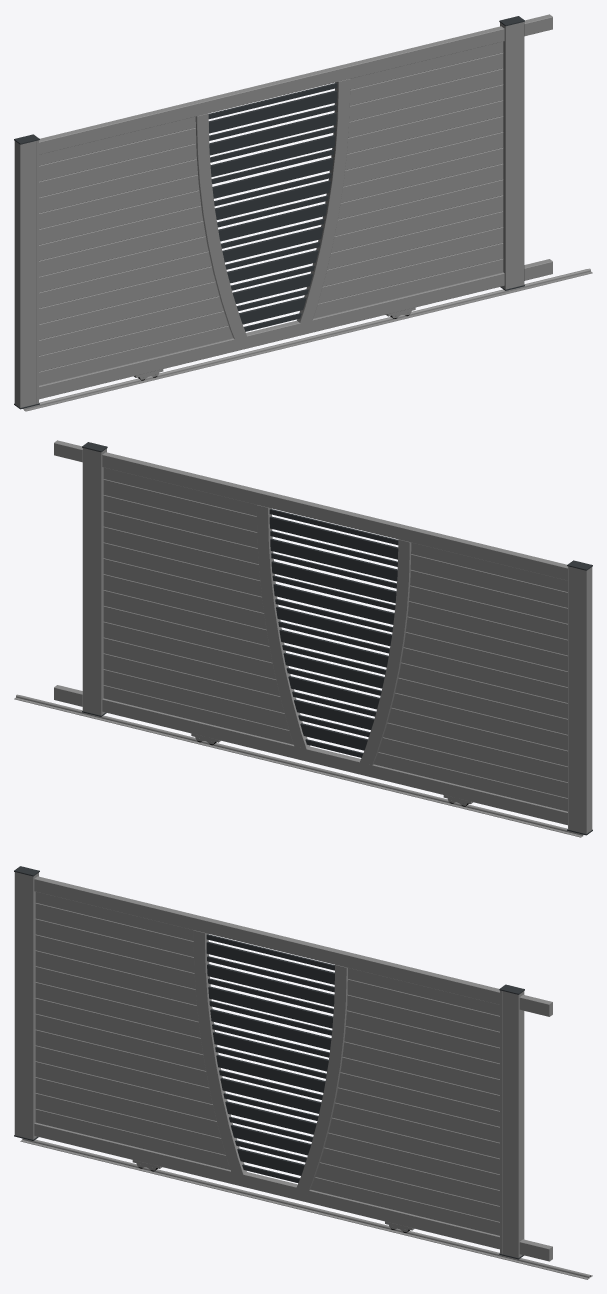
3 renders of one model, top to bottom at view 1: azimuth 30°, elevation 25°; view 2: azimuth 150°, elevation 25°; view 3: azimuth 330°, elevation 25°, orthographic.
Parts seen in each view (by area): view 1: Plane005, Shape095, Shape107413006, Plane006, Shape107412643, Shape107413021, Line119, Rail, Line088, Line102, Line117, Line101 (+27 smaller); view 2: Plane005, Shape095, Shape107413006, Plane006, Shape107412643, Shape107413021, Rail, Line119, Line088, Line102, Line117, Line101 (+27 smaller); view 3: Plane005, Shape095, Shape107413006, Plane006, Shape107413021, Shape107412643, Line088, Rail, Line119, Line102, Line101, Line117 (+27 smaller).
Part boxes in pixels (left/top/right/bottom): Plane005: left=208, top=90, right=337, bottom=324; Shape095: left=39, top=14, right=552, bottom=154; Shape107413006: left=39, top=259, right=552, bottom=399; Plane006: left=208, top=83, right=337, bottom=331; Shape107412643: left=14, top=140, right=38, bottom=407; Shape107413021: left=500, top=22, right=524, bottom=289; Line119: left=297, top=79, right=350, bottom=327; Rail: left=23, top=268, right=592, bottom=411; Line088: left=195, top=113, right=247, bottom=345; Line102: left=39, top=311, right=228, bottom=371; Line117: left=318, top=243, right=503, bottom=303; Line101: left=39, top=296, right=223, bottom=355; Plane005: left=269, top=516, right=398, bottom=750; Shape095: left=54, top=440, right=567, bottom=580; Shape107413006: left=54, top=685, right=567, bottom=825; Plane006: left=269, top=509, right=398, bottom=757; Shape107412643: left=568, top=566, right=592, bottom=833; Shape107413021: left=82, top=448, right=106, bottom=715; Rail: left=14, top=694, right=583, bottom=837; Line119: left=256, top=505, right=309, bottom=749; Line088: left=360, top=539, right=411, bottom=765; Line102: left=378, top=737, right=567, bottom=798; Line117: left=103, top=669, right=288, bottom=729; Line101: left=383, top=723, right=567, bottom=782; Plane005: left=206, top=941, right=334, bottom=1175; Shape095: left=34, top=876, right=552, bottom=1016; Shape107413006: left=34, top=1122, right=552, bottom=1261; Plane006: left=206, top=934, right=334, bottom=1182; Shape107413021: left=500, top=990, right=524, bottom=1257; Shape107412643: left=14, top=872, right=38, bottom=1139; Line088: left=193, top=930, right=246, bottom=1178; Rail: left=20, top=1138, right=592, bottom=1279; Line119: left=296, top=964, right=347, bottom=1196; Line102: left=35, top=1093, right=225, bottom=1154; Line101: left=35, top=1077, right=220, bottom=1137; Line117: left=315, top=1162, right=499, bottom=1221.
Bounding box in the file's own units: 3638 × 1636 × 70.
Materials: 7 (3 with a texture image).
